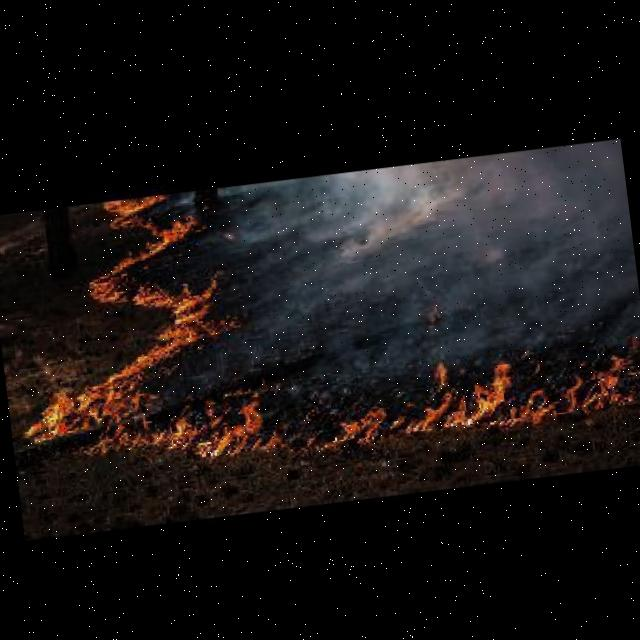fire: (307, 334, 640, 453), (62, 184, 254, 389), (19, 358, 285, 473)
